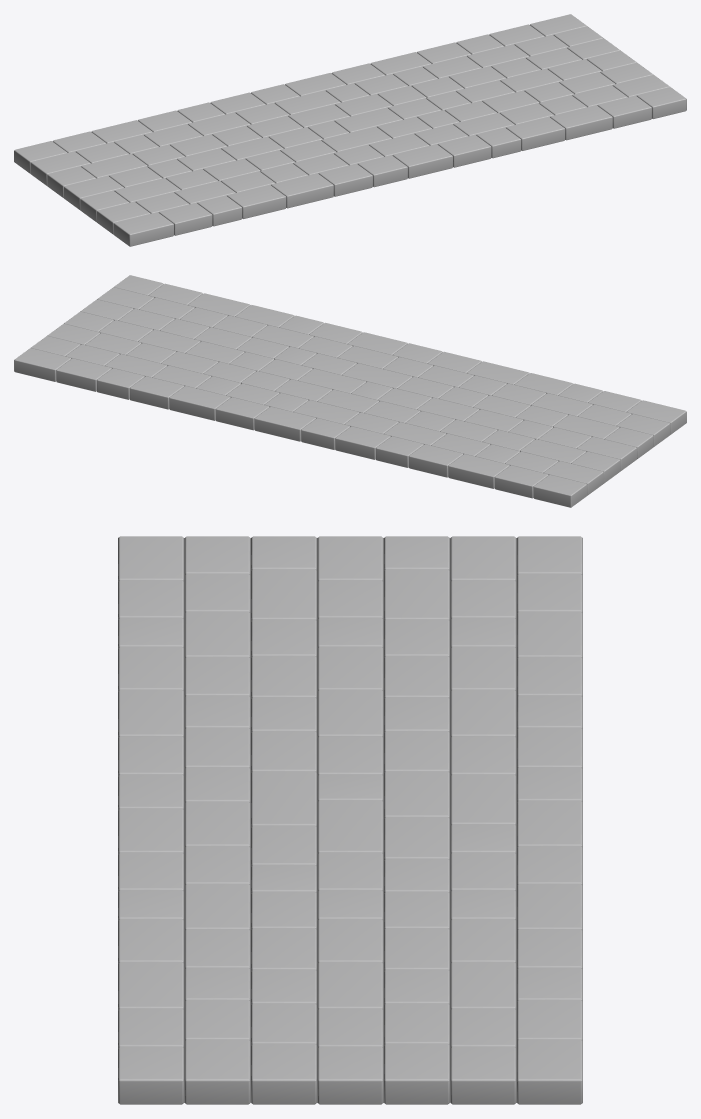
File: City_4_Base_1.glb
3 views of the same model, one above another, from view 1: azimuth 30°, elevation 25°; view 2: azimuth 150°, elevation 25°; view 3: azimuth 270°, elevation 25° (orthographic). The views are drawn at different scales.
Visible parts, largest first — view 1: City_4_Base_1; view 2: City_4_Base_1; view 3: City_4_Base_1.
Boxes of the visible parts, left/top/right/bottom form: City_4_Base_1: left=14, top=14, right=686, bottom=246; City_4_Base_1: left=14, top=275, right=686, bottom=507; City_4_Base_1: left=118, top=536, right=582, bottom=1104.
Size of the model in its own units: 28.24 by 0.6294 by 10.19.
1 material, 1 textured.
